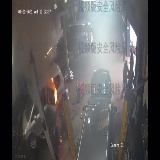fire: (49, 77, 59, 114)
